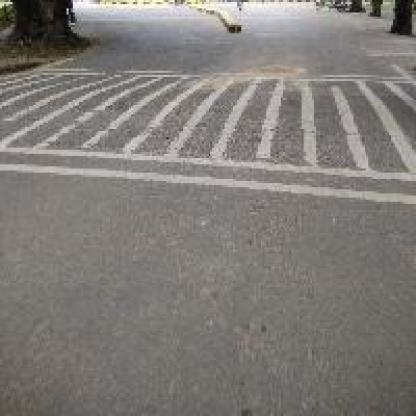Speed Bump: (2, 71, 414, 208)
